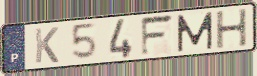4: (108, 17, 135, 60)
5: (69, 21, 99, 62)
F: (140, 12, 176, 58)
H: (214, 7, 249, 51)
K: (33, 26, 61, 65)
M: (175, 11, 215, 54)
